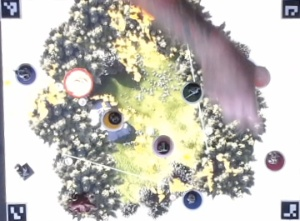blue: (178, 187, 206, 210)
green: (182, 80, 203, 103)
pink: (147, 130, 178, 156)
red: (263, 147, 291, 170)
violet: (13, 60, 38, 84)
yellow: (98, 106, 124, 131)
